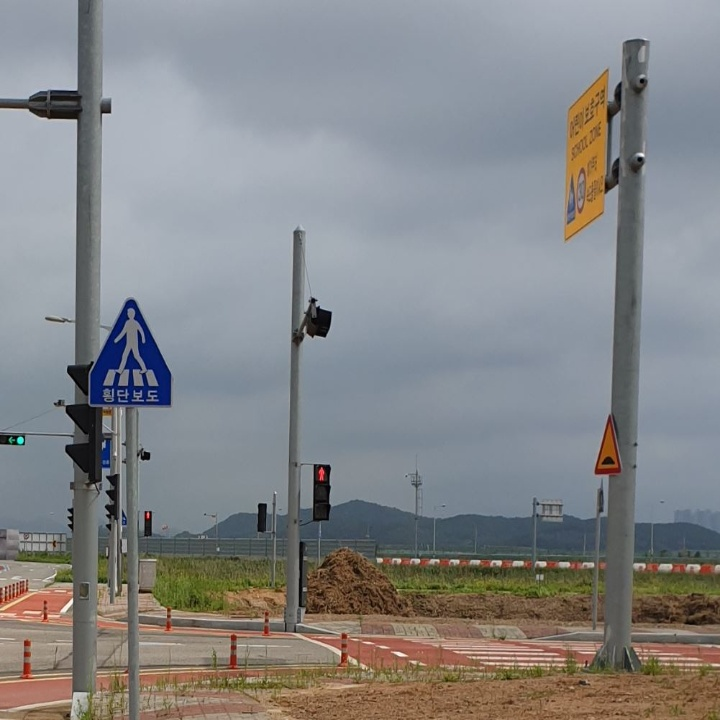bump: (592, 407, 626, 477)
cross: (109, 300, 160, 386)
